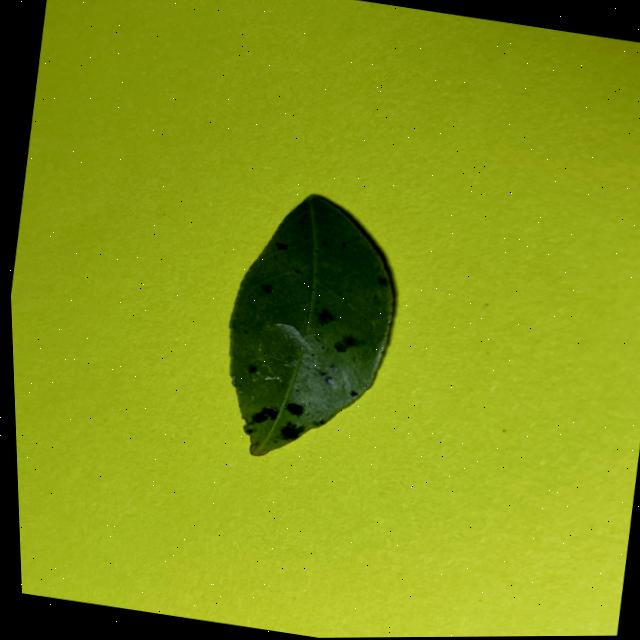sooty_mold: (231, 194, 394, 455)
